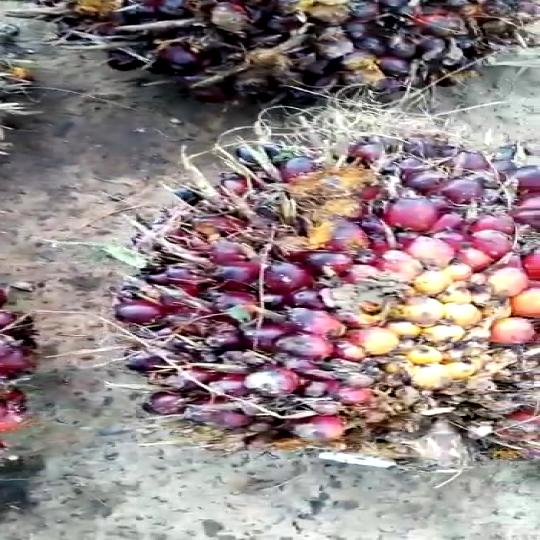masak: (99, 110, 540, 483)
